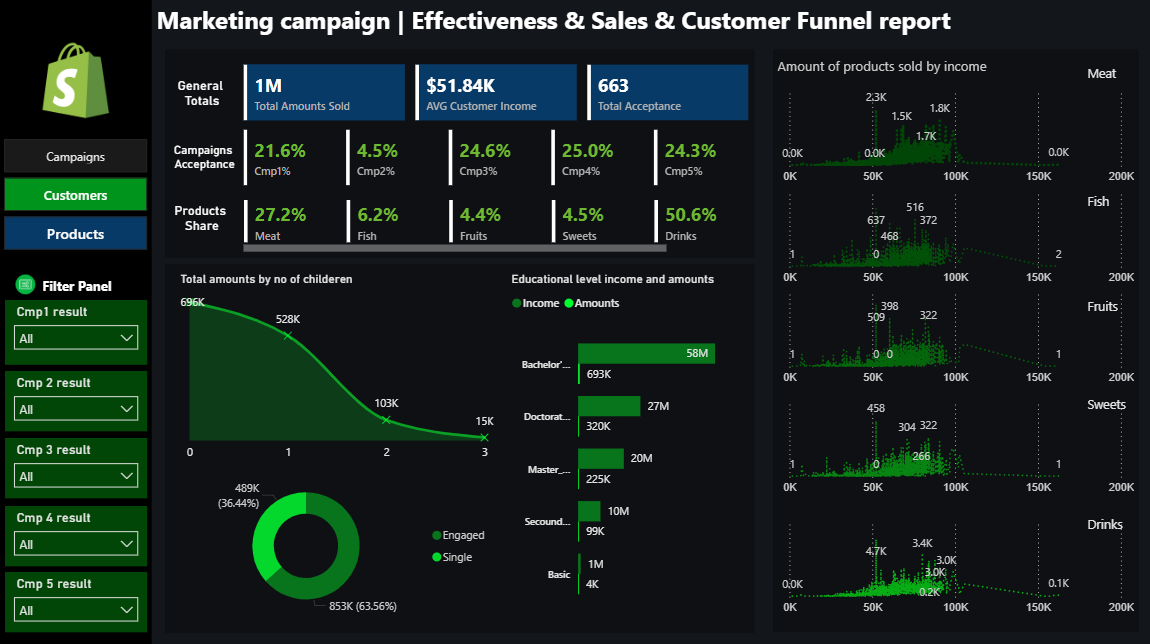

What the dashboard file says about the page in this screenshot:
{"tool":"powerbi","page":{"name":"Customers","canvas":[1280,720],"ordinal":1},"visuals":[{"type":"shape","box":[0,0,169.7,720.6],"z":0},{"type":"textbox","box":[169.7,0,1080.1,57.1],"z":1000},{"type":"shape","box":[184.8,57.1,655.1,232],"z":2000},{"type":"cardVisual","fields":{"Data":["DimProducts.Total Amounts","DimCustomer.AVG Income","DimCampains.Total acceptance"]},"box":[267.1,68.9,572.8,72.2],"z":3000},{"type":"card","fields":{"Values":["FactCustomerPurchases.General totals"]},"box":[184.8,72.2,82.3,68.9],"z":4000},{"type":"cardVisual","fields":{"Data":["DimCampains.Cmp1 Acceptance%","DimCampains.Cmp2 Acceptance%","DimCampains.Cmp3 Acceptance%","DimCampains.Cmp4 Acceptance%","DimCampains.Cmp5 Acceptance%"]},"box":[267.1,141.1,572.8,72.2],"z":5000},{"type":"card","fields":{"Values":["DimCampains.Campaign Acceptance %"]},"box":[171,142.8,115,68.9],"z":6000},{"type":"cardVisual","fields":{"Data":["DimProducts.Meat share %","DimProducts.Fish share %","DimProducts.Fruits share %","DimProducts.Sweets share %","DimProducts.Drinks share %","DimProducts.Gold share %"]},"box":[267.1,218.4,572.8,70.6],"z":7000},{"type":"card","fields":{"Values":["DimProducts.Products Share"]},"box":[184.8,211.7,82.3,68.9],"z":8000},{"type":"shape","box":[184.8,295.6,655.1,409.9],"z":9000},{"type":"shape","box":[860.1,57.1,406.5,648.4],"z":10000},{"type":"lineChart","fields":{"Category":["DimCustomer.Income"],"Y":["Sum(DimProducts.Amount_Meat)"]},"box":[863.4,90.7,403.1,122.6],"z":11000},{"type":"textbox","box":[860.1,60.5,262,38.6],"z":12000},{"type":"image","box":[43.7,35.3,84,112.5],"z":13000},{"type":"slicer","fields":{"Values":["DimCampains.Cmp1 result"]},"box":[6.7,336,157.9,72.2],"z":14000},{"type":"slicer","fields":{"Values":["DimCampains.Cmp 2 result"]},"box":[6.7,414.6,157.9,67.2],"z":15000},{"type":"slicer","fields":{"Values":["DimCampains.Cmp 3 result"]},"box":[6.7,488.5,157.9,67.2],"z":16000},{"type":"slicer","fields":{"Values":["DimCampains.Cmp 4 result"]},"box":[6.7,564.1,157.9,67.2],"z":17000},{"type":"slicer","fields":{"Values":["DimCampains.Cmp 5 result"]},"box":[6.7,638.3,157.9,67.2],"z":18000},{"type":"textbox","box":[43.7,304,97.4,42],"z":19000},{"type":"image","box":[13.4,302.4,31.9,31.9],"z":20000},{"type":"lineChart","fields":{"Category":["DimCustomer.Income"],"Y":["Sum(DimProducts.Amount_Fish)"]},"box":[863.4,203.3,403.1,122.6],"z":21000},{"type":"lineChart","fields":{"Category":["DimCustomer.Income"],"Y":["Sum(DimProducts.Amount_Fruits)"]},"box":[863.4,314.1,403.1,122.6],"z":22000},{"type":"lineChart","fields":{"Category":["DimCustomer.Income"],"Y":["Sum(DimProducts.Amount_Sweet)"]},"box":[863.4,436.7,403.1,122.6],"z":23000},{"type":"lineChart","fields":{"Category":["DimCustomer.Income"],"Y":["Sum(DimProducts.Amount_Drinks)"]},"box":[863.4,569.4,403.1,122.6],"z":24000},{"type":"donutChart","fields":{"Category":["DimCustomer.Relationship_Status"],"Y":["DimProducts.Total Amounts"]},"box":[196.5,525.8,357.8,166.3],"z":25000},{"type":"lineChart","title":"Total amounts by no of childeren","fields":{"Category":["DimCustomer.No.Of_Children"],"Y":["DimProducts.Total Amounts"]},"box":[196.5,304,357.8,218.4],"z":26000},{"type":"textbox","box":[1204,68.9,55.4,35.3],"z":27000},{"type":"clusteredBarChart","title":"Educational level income and amounts","fields":{"Category":["DimCustomer.Educational_Level"],"Y":["Sum(DimCustomer.Income)","DimProducts.Total Amounts"]},"box":[564.4,304,263.7,388],"z":28000},{"type":"textbox","box":[1204,211.7,55.4,35.3],"z":29000},{"type":"textbox","box":[1204,327.6,55.4,35.3],"z":30000},{"type":"textbox","box":[1204,436.7,55.4,35.3],"z":31000},{"type":"textbox","box":[1204,569.4,55.4,35.3],"z":32000},{"type":"pageNavigator","box":[5,156.2,159.6,124.3],"z":33000}]}

Visuals, with their boxes on the page's 1280x720 design canvas (x1, y1, x2, y2). These are canvas units, not pixel positions in the 1150x644 screenshot, which may show the page scaled, cropped or inside an application window:
shape: 0,0,170,721
textbox: 170,0,1250,57
shape: 185,57,840,289
cardVisual - DimProducts.Total Amounts x DimCustomer.AVG Income: 267,69,840,141
card - FactCustomerPurchases.General totals: 185,72,267,141
cardVisual - DimCampains.Cmp1 Acceptance% x DimCampains.Cmp2 Acceptance%: 267,141,840,213
card - DimCampains.Campaign Acceptance %: 171,143,286,212
cardVisual - DimProducts.Meat share % x DimProducts.Fish share %: 267,218,840,289
card - DimProducts.Products Share: 185,212,267,281
shape: 185,296,840,706
shape: 860,57,1267,706
lineChart - DimCustomer.Income x Sum(DimProducts.Amount_Meat): 863,91,1266,213
textbox: 860,60,1122,99
image: 44,35,128,148
slicer - DimCampains.Cmp1 result: 7,336,165,408
slicer - DimCampains.Cmp 2 result: 7,415,165,482
slicer - DimCampains.Cmp 3 result: 7,488,165,556
slicer - DimCampains.Cmp 4 result: 7,564,165,631
slicer - DimCampains.Cmp 5 result: 7,638,165,706
textbox: 44,304,141,346
image: 13,302,45,334
lineChart - DimCustomer.Income x Sum(DimProducts.Amount_Fish): 863,203,1266,326
lineChart - DimCustomer.Income x Sum(DimProducts.Amount_Fruits): 863,314,1266,437
lineChart - DimCustomer.Income x Sum(DimProducts.Amount_Sweet): 863,437,1266,559
lineChart - DimCustomer.Income x Sum(DimProducts.Amount_Drinks): 863,569,1266,692
donutChart - DimCustomer.Relationship_Status x DimProducts.Total Amounts: 196,526,554,692
"Total amounts by no of childeren" lineChart: 196,304,554,522
textbox: 1204,69,1259,104
"Educational level income and amounts" clusteredBarChart: 564,304,828,692
textbox: 1204,212,1259,247
textbox: 1204,328,1259,363
textbox: 1204,437,1259,472
textbox: 1204,569,1259,605
pageNavigator: 5,156,165,280
